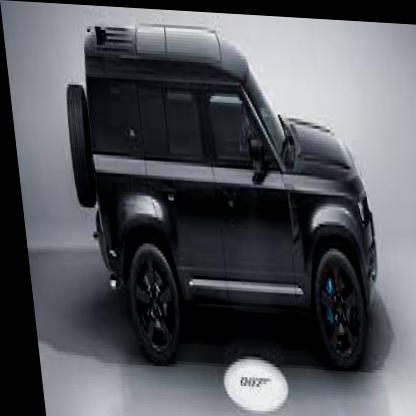Car: (56, 22, 383, 371)
